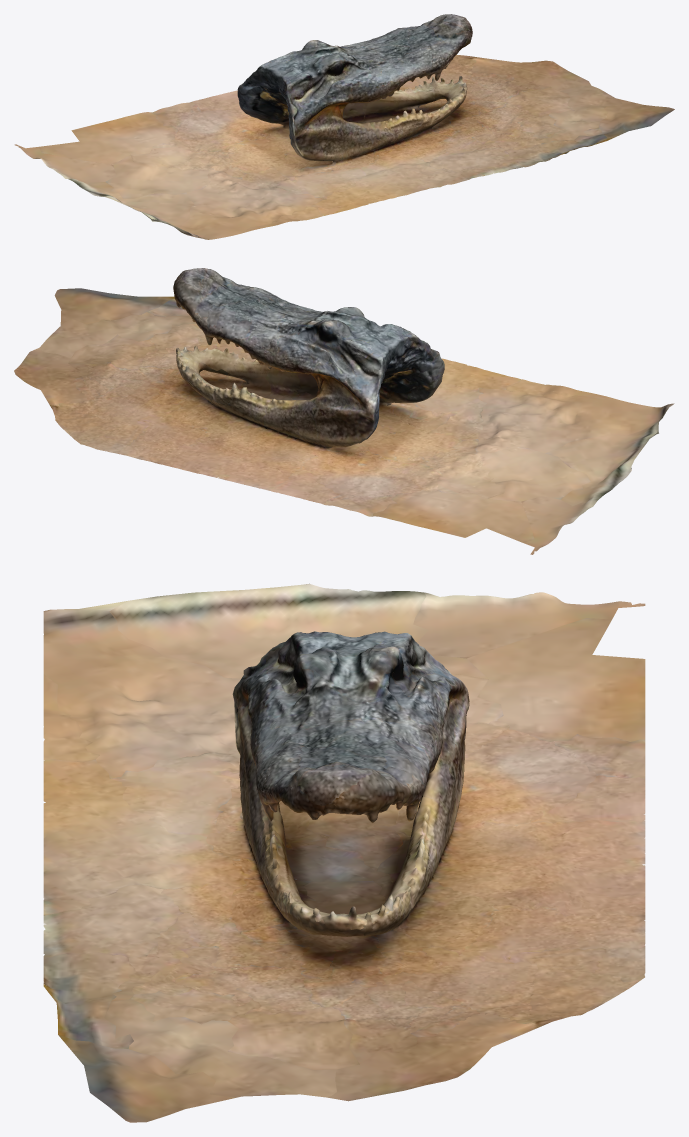
The model's file is Crocodile-compressed.glb.
The picture shows the model from 3 angles, top to bottom: view 1: azimuth 30°, elevation 25°; view 2: azimuth 150°, elevation 25°; view 3: azimuth 270°, elevation 25°; orthographic projection. The views are drawn at different scales.
Parts seen in each view (by area): view 1: Crocodile.usdz; view 2: Crocodile.usdz; view 3: Crocodile.usdz.
Part boxes in pixels (x1,y1,x2,y2): Crocodile.usdz: (14, 14, 674, 239); Crocodile.usdz: (14, 268, 674, 554); Crocodile.usdz: (43, 583, 645, 1122).
Bounding box in the file's own units: 0.7068 × 0.1264 × 0.3463.
1 material, 1 textured.
